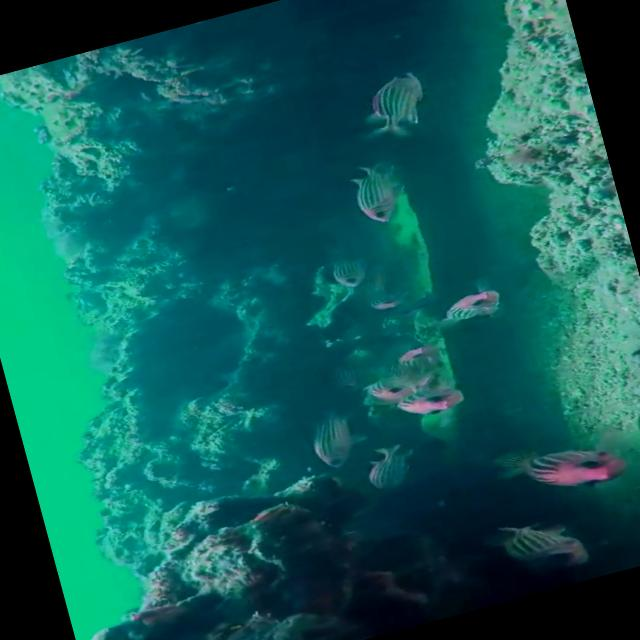Asker Baligi: (352, 59, 440, 141), (286, 396, 375, 474), (343, 155, 411, 229), (438, 280, 518, 326), (324, 247, 376, 295)
